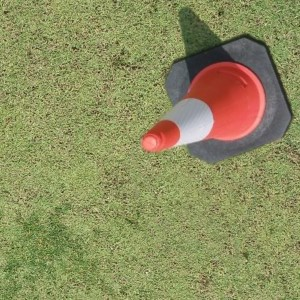traffic cone: (139, 32, 293, 166)
